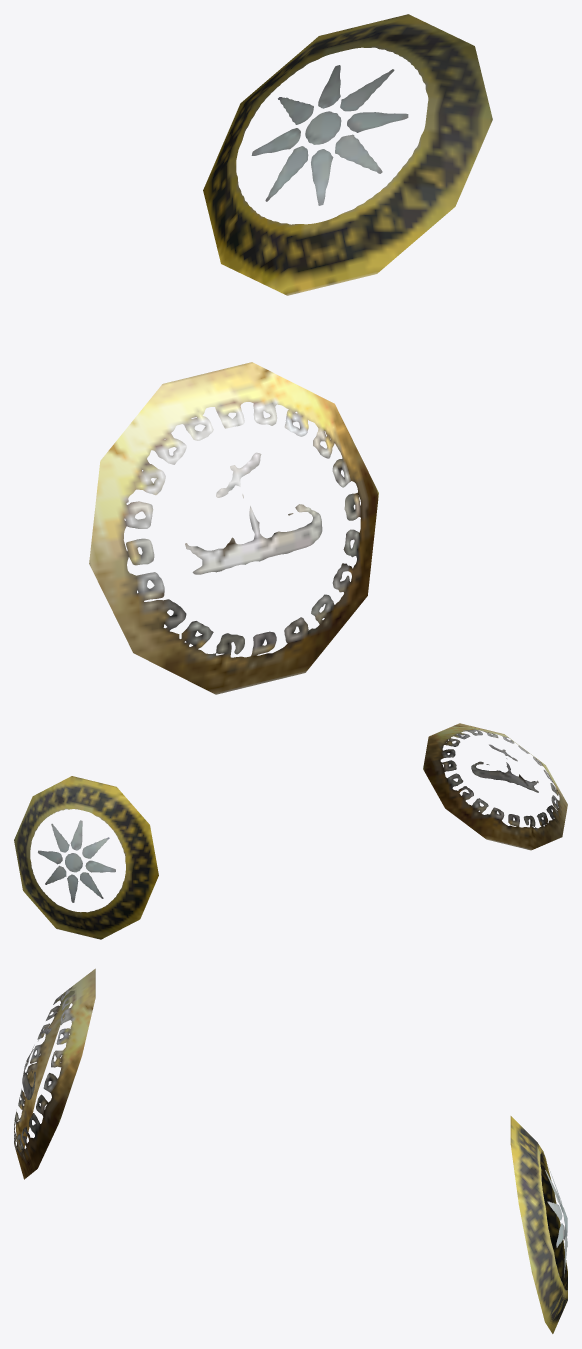
Rendered from hele_civic_shields.dae.
3 renders of one model, top to bottom at view 1: azimuth 30°, elevation 25°; view 2: azimuth 150°, elevation 25°; view 3: azimuth 270°, elevation 25°, orthographic. The views are drawn at different scales.
Parts seen in each view (by area): view 1: shield18-Pivot; view 2: shield18-Pivot; view 3: shield18-Pivot.
Part boxes in pixels (x1=…): shield18-Pivot: x1=89, y1=14, x2=492, y2=694; shield18-Pivot: x1=14, y1=723, x2=567, y2=939; shield18-Pivot: x1=14, y1=968, x2=567, y2=1333.
Size of the model in its own units: 5.21 by 4.94 by 1.86.
